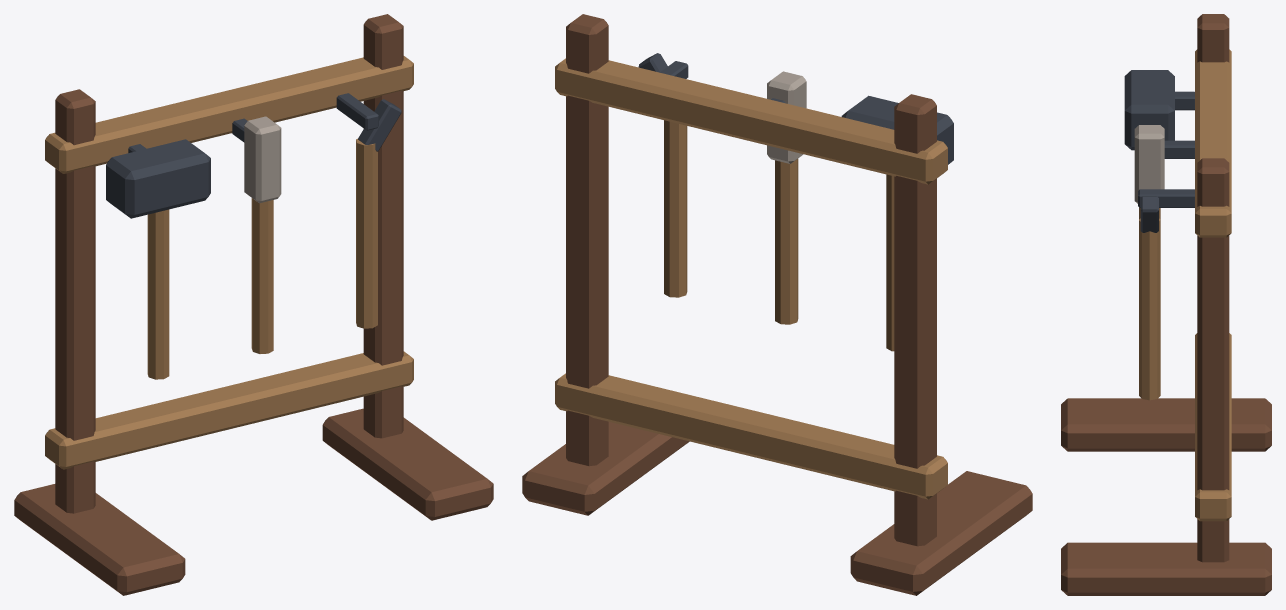
File: 08_Smith_Tool_Rack.glb
3 views of the same model, side by side, from view 1: azimuth 30°, elevation 25°; view 2: azimuth 150°, elevation 25°; view 3: azimuth 270°, elevation 25° (orthographic). The views are drawn at different scales.
Visible parts, largest first — view 1: 08_Smith_Tool_Rack__Body; view 2: 08_Smith_Tool_Rack__Body; view 3: 08_Smith_Tool_Rack__Body.
Boxes of the visible parts, bbox=[...] form: 08_Smith_Tool_Rack__Body: bbox=[14, 14, 493, 595]; 08_Smith_Tool_Rack__Body: bbox=[522, 14, 1032, 595]; 08_Smith_Tool_Rack__Body: bbox=[1061, 14, 1271, 595].
Size of the model in its own units: 2.49 by 2.77 by 1.26.
1 material, 1 textured.
